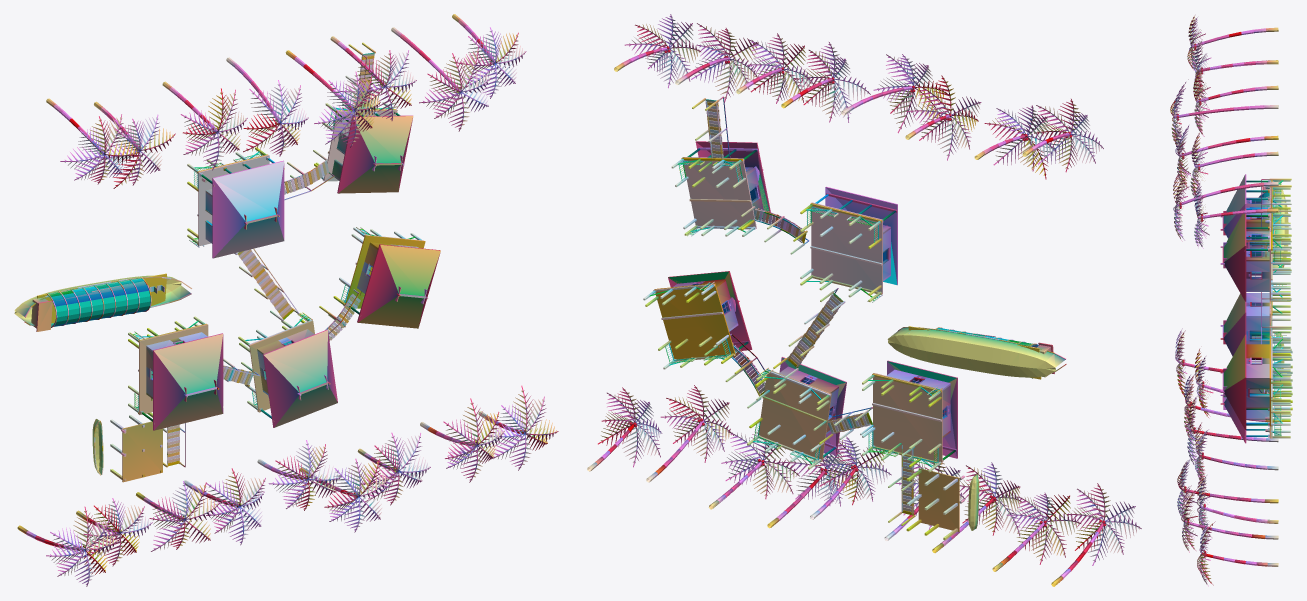
The model's file is KayalVillage.fbx.
3 renders of one model, left to right at view 1: azimuth 30°, elevation 25°; view 2: azimuth 150°, elevation 25°; view 3: azimuth 270°, elevation 25°, orthographic. The views are drawn at different scales.
Parts seen in each view (by area): view 1: KV_Palms_LOD0, KV_House_A_LOD0, KV_House_D_LOD0, KV_House_B_LOD0, KV_House_C_LOD0, KV_House_E_LOD0, KV_Houseboat_LOD0, KV_Walkways_LOD0, KV_Jetty_LOD0; view 2: KV_Palms_LOD0, KV_House_D_LOD0, KV_House_A_LOD0, KV_House_B_LOD0, KV_House_C_LOD0, KV_House_E_LOD0, KV_Walkways_LOD0, KV_Houseboat_LOD0, KV_Jetty_LOD0; view 3: KV_Palms_LOD0, KV_House_C_LOD0, KV_House_E_LOD0, KV_House_A_LOD0, KV_House_D_LOD0, KV_House_B_LOD0, KV_Walkways_LOD0, KV_Houseboat_LOD0, KV_Jetty_LOD0.
Part boxes in pixels (x1=…): KV_Palms_LOD0: x1=17, y1=14, x2=558, y2=586; KV_House_A_LOD0: x1=128, y1=316, x2=223, y2=430; KV_House_D_LOD0: x1=187, y1=147, x2=284, y2=258; KV_House_B_LOD0: x1=238, y1=312, x2=337, y2=427; KV_House_C_LOD0: x1=333, y1=227, x2=440, y2=328; KV_House_E_LOD0: x1=314, y1=102, x2=413, y2=193; KV_Houseboat_LOD0: x1=14, y1=273, x2=191, y2=331; KV_Walkways_LOD0: x1=163, y1=42, x2=375, y2=467; KV_Jetty_LOD0: x1=92, y1=412, x2=162, y2=482; KV_Palms_LOD0: x1=587, y1=14, x2=1141, y2=586; KV_House_D_LOD0: x1=800, y1=186, x2=897, y2=302; KV_House_A_LOD0: x1=862, y1=360, x2=957, y2=472; KV_House_B_LOD0: x1=747, y1=357, x2=846, y2=469; KV_House_C_LOD0: x1=643, y1=271, x2=752, y2=369; KV_House_E_LOD0: x1=671, y1=141, x2=770, y2=236; KV_Walkways_LOD0: x1=692, y1=96, x2=915, y2=525; KV_Houseboat_LOD0: x1=887, y1=326, x2=1066, y2=379; KV_Jetty_LOD0: x1=906, y1=468, x2=979, y2=540; KV_Palms_LOD0: x1=1170, y1=16, x2=1278, y2=586; KV_House_C_LOD0: x1=1220, y1=334, x2=1290, y2=429; KV_House_E_LOD0: x1=1220, y1=209, x2=1290, y2=301; KV_House_A_LOD0: x1=1220, y1=284, x2=1290, y2=373; KV_House_D_LOD0: x1=1220, y1=174, x2=1290, y2=267; KV_House_B_LOD0: x1=1220, y1=358, x2=1290, y2=443; KV_Walkways_LOD0: x1=1259, y1=178, x2=1291, y2=415; KV_Houseboat_LOD0: x1=1257, y1=186, x2=1288, y2=267; KV_Jetty_LOD0: x1=1272, y1=333, x2=1292, y2=410.
Size of what is drawn, in the model's own units: 56.55 by 48.51 by 13.41.
